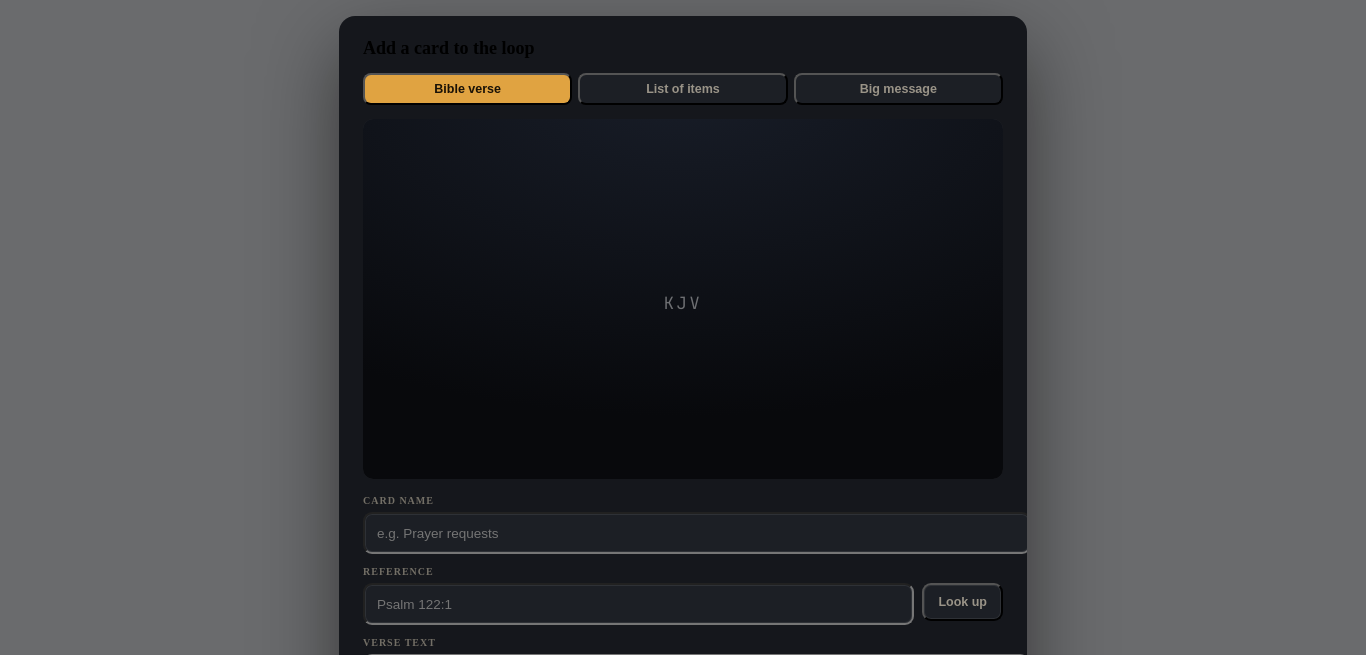
Scenario: PreCardEditor verse look-up › fills verse text, canonicalizes the reference, and shows the version
The width and height of the screenshot is (1366, 655).
Type "psalm 122:1" into the field with placeholder "Psalm 122:1" at point(639, 604), box [363,583,914,625]
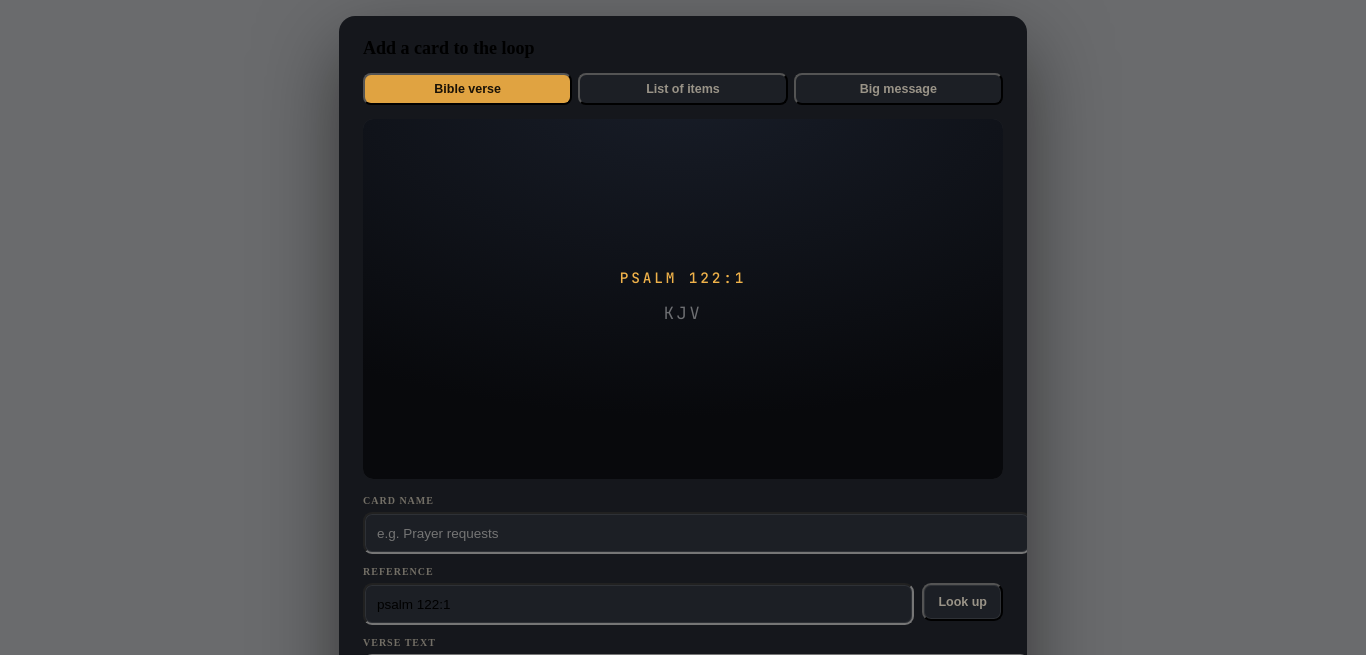
Click the button "Look up" at point(963, 602), box [922,583,1003,621]
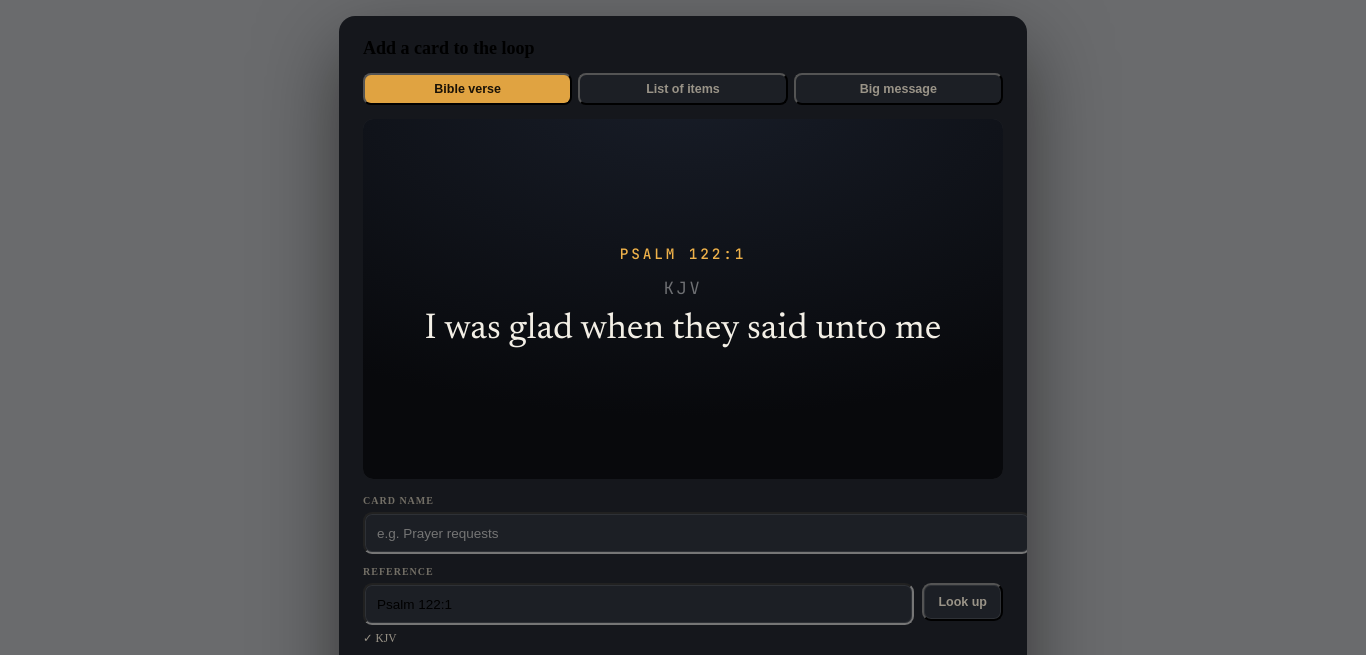
Expected: the text "✓ KJV" is shown, [363,632,397,644]
